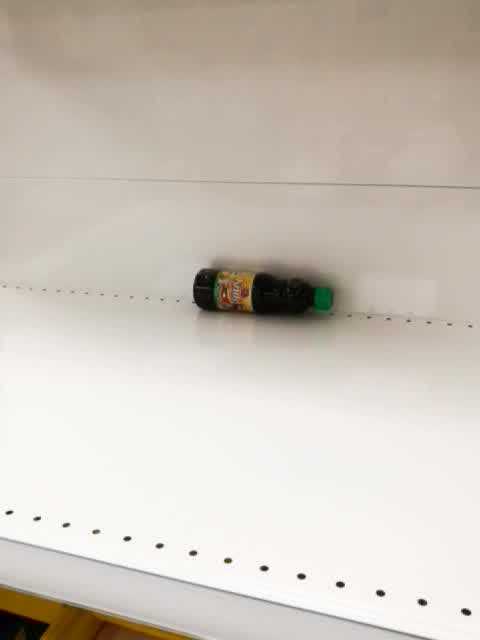cookingoil: (191, 264, 337, 317)
